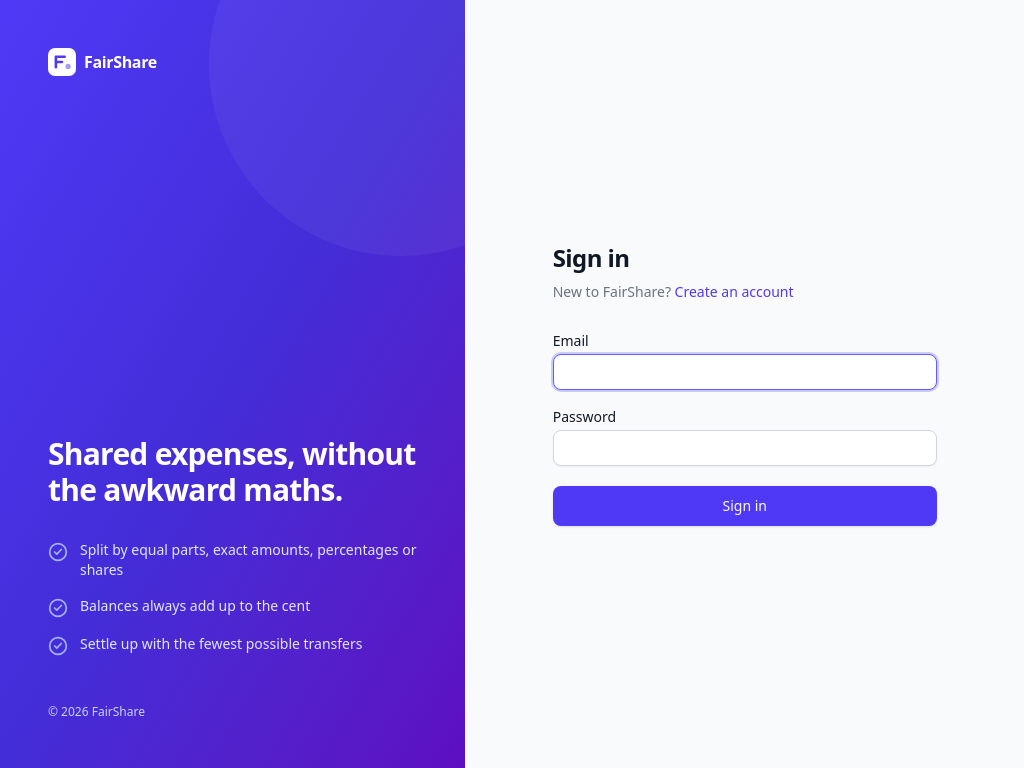
Test: LoginPage › shows a clear message for wrong credentials
Step 1. Type "anna@example.com" into the field labelled "Email" → point(745, 372), box [553,354,937,390]
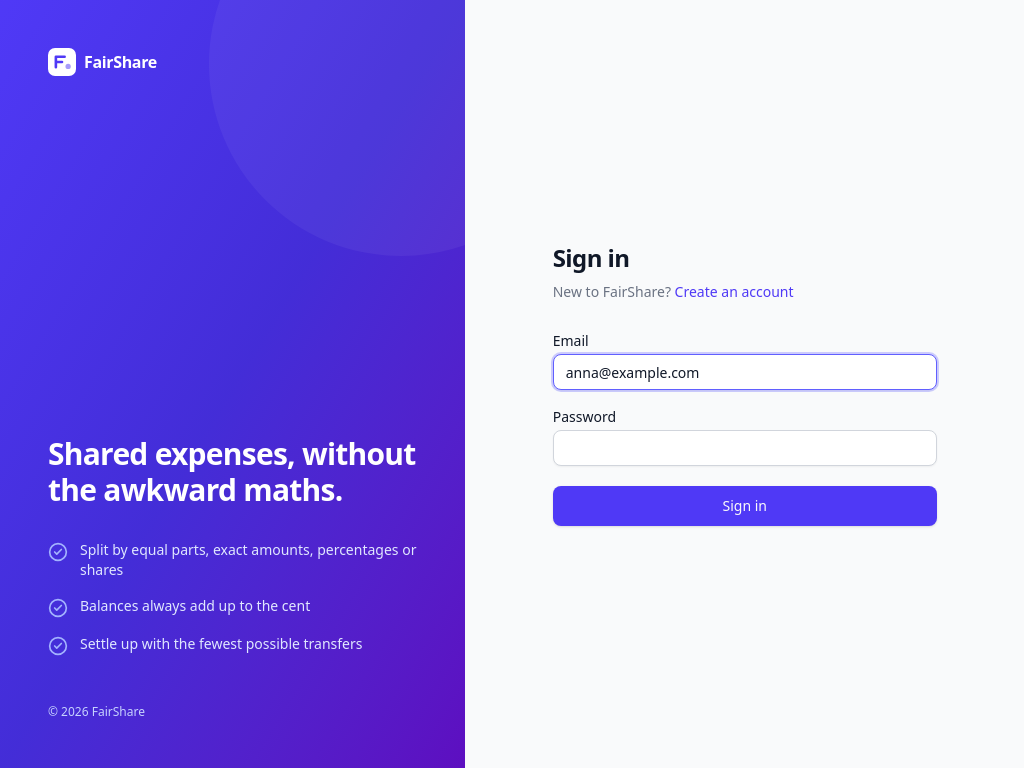
Step 2. Type "wrong-password" into the password field labelled "Password" → point(745, 448), box [553,430,937,466]
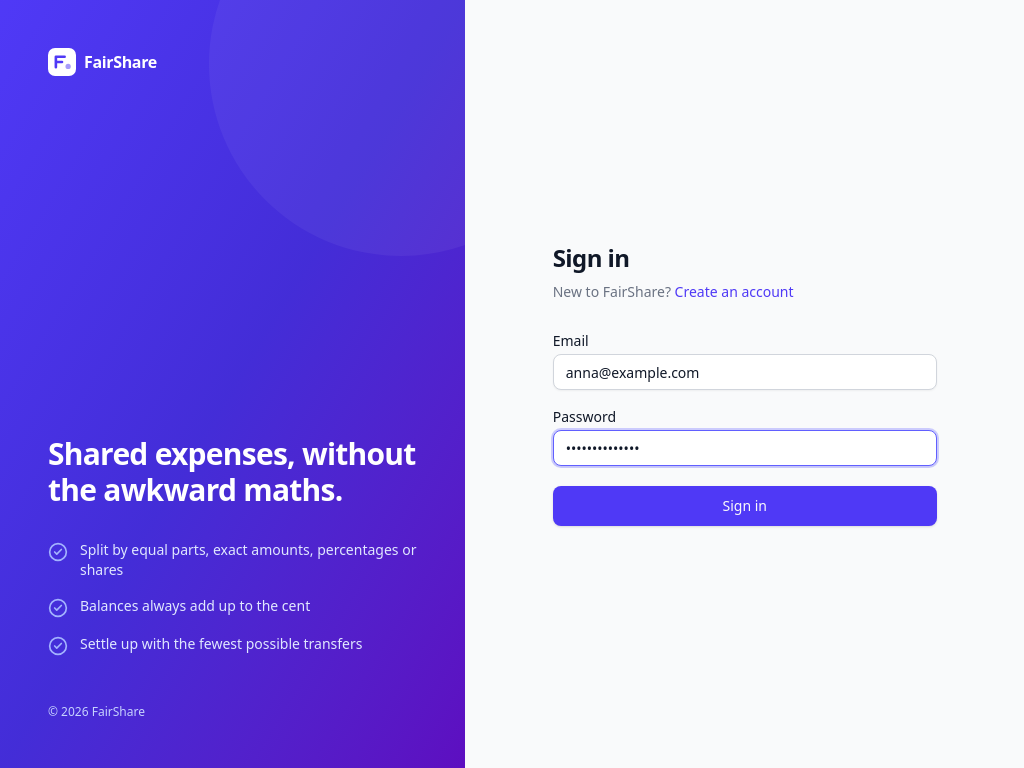
Step 3. Click the button "Sign in" → point(745, 506), box [553,486,937,526]
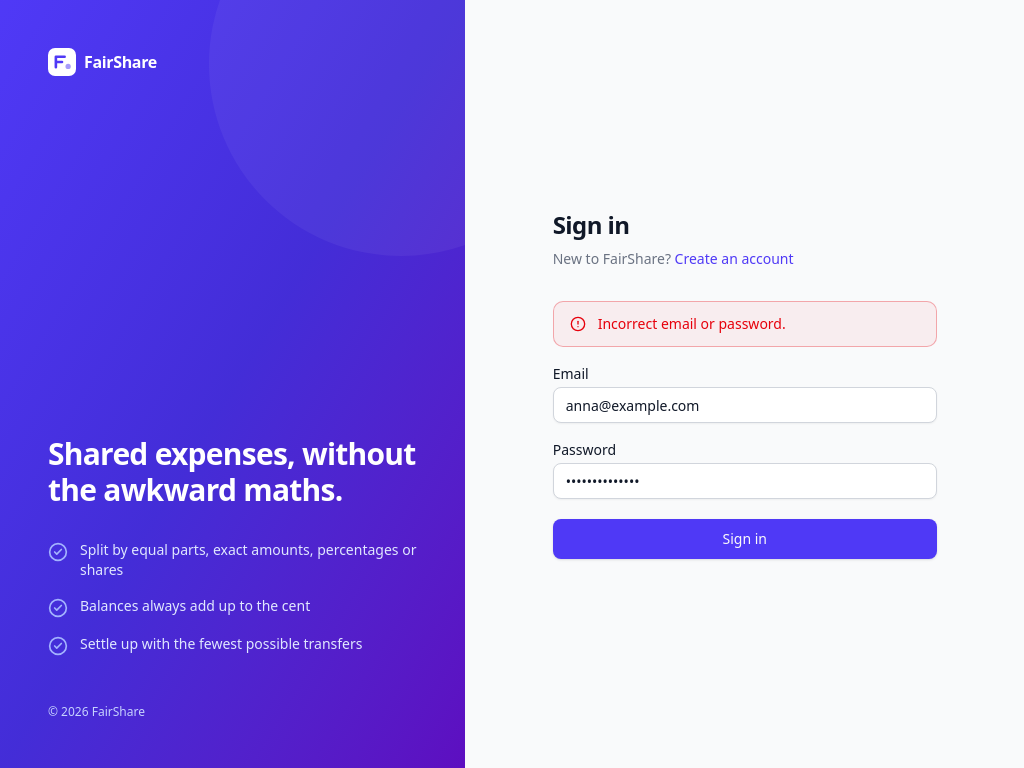
Now the message reads "Incorrect email or password.", box [598,314,786,333]
